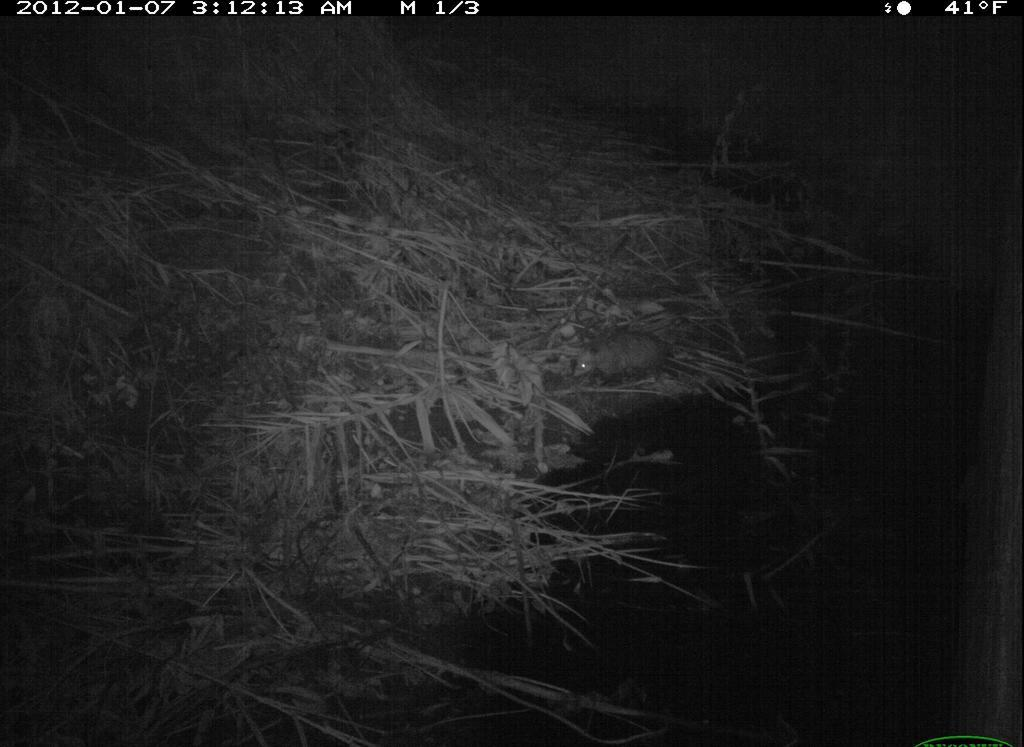opossum: (565, 313, 679, 406)
